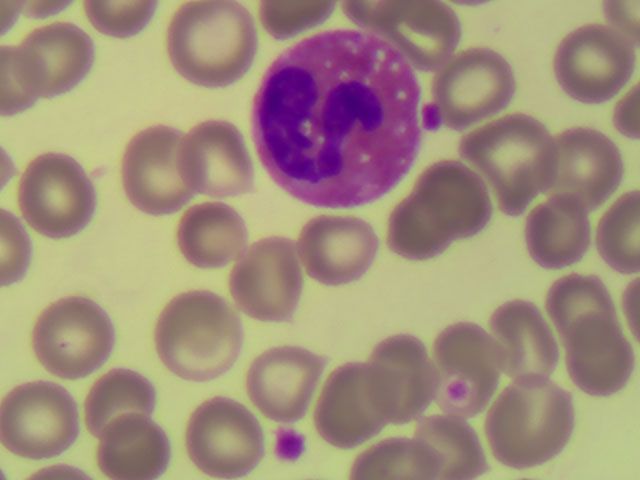Platelets: (273, 431, 306, 459), (423, 103, 441, 129), (448, 380, 468, 401)
RBC: (170, 4, 258, 91), (495, 372, 569, 465), (162, 297, 242, 379), (125, 130, 201, 215), (33, 296, 112, 374), (473, 120, 552, 197), (21, 154, 95, 236), (567, 309, 633, 398), (188, 398, 262, 477), (556, 24, 633, 99), (420, 162, 495, 236), (179, 124, 250, 202), (495, 300, 560, 384), (6, 380, 74, 459), (290, 220, 375, 283), (232, 243, 300, 321), (557, 277, 628, 351), (552, 132, 621, 207), (372, 339, 439, 416), (442, 50, 516, 119), (21, 23, 89, 97), (324, 367, 394, 438), (420, 414, 493, 480), (250, 348, 319, 415), (176, 205, 250, 267), (89, 370, 157, 437), (95, 421, 170, 480), (532, 195, 590, 266), (397, 197, 455, 259), (355, 444, 450, 480), (394, 3, 463, 48), (601, 193, 640, 272), (1, 42, 40, 116), (85, 1, 149, 43), (447, 323, 499, 371), (257, 1, 313, 36), (1, 208, 21, 299), (606, 1, 640, 43), (616, 83, 640, 137), (21, 1, 74, 13), (1, 1, 14, 37)
WBC: (260, 38, 400, 202)
